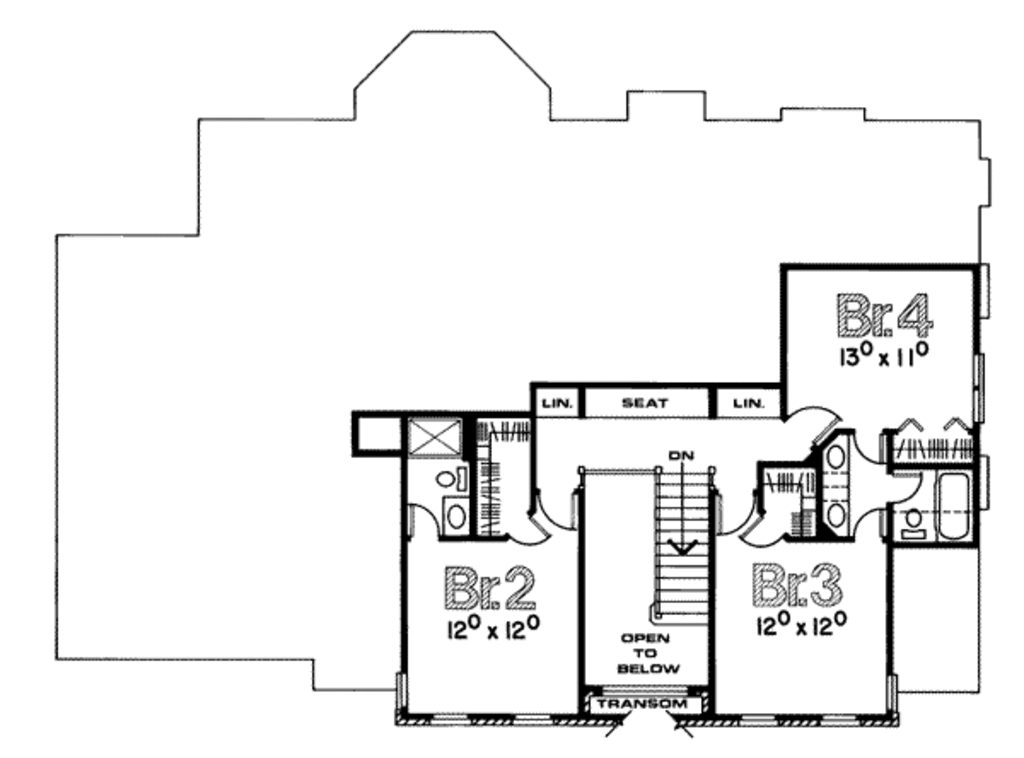door: (783, 401, 840, 443), (739, 513, 788, 557), (539, 485, 583, 531), (508, 512, 556, 551), (403, 503, 439, 545)
large_sink: (427, 458, 471, 496), (898, 506, 929, 545)
small_sink: (824, 437, 855, 542), (439, 493, 475, 538)
stairs: (647, 449, 725, 630)
tub: (929, 465, 978, 547)
window: (968, 344, 987, 426), (812, 705, 861, 733), (737, 706, 781, 736), (508, 706, 557, 730), (425, 710, 477, 731)
